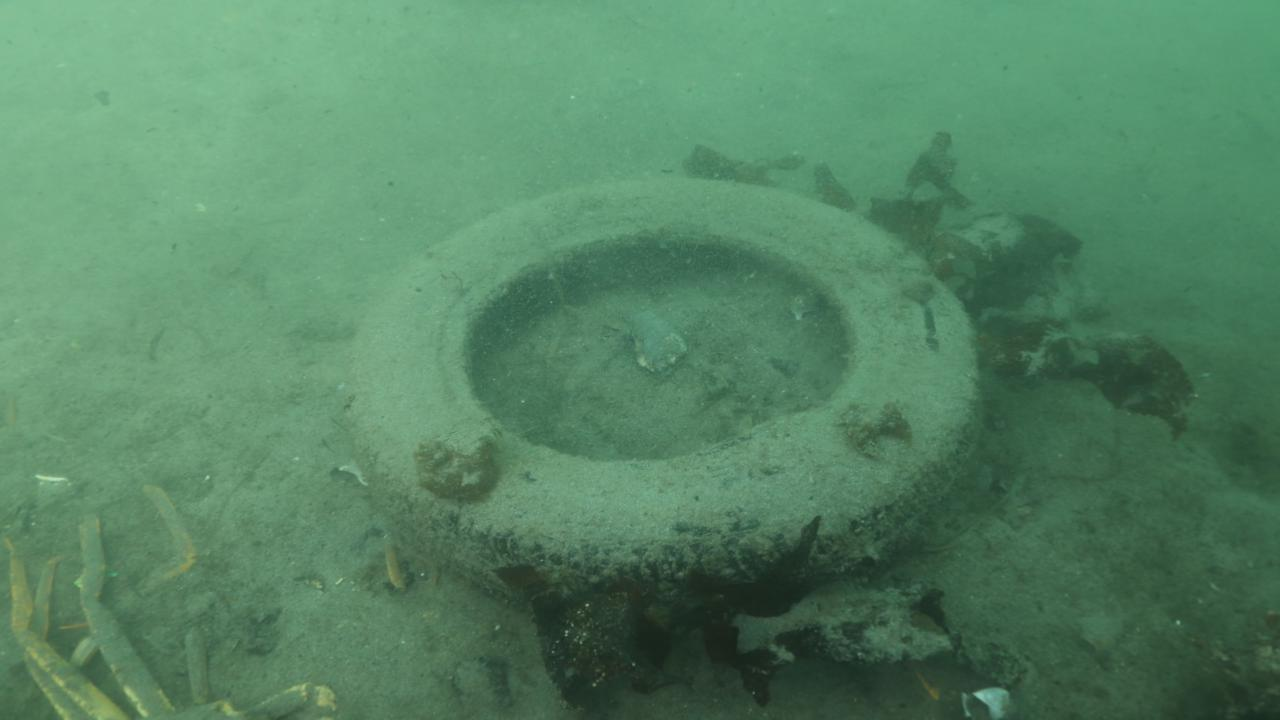tire: (343, 177, 980, 614)
